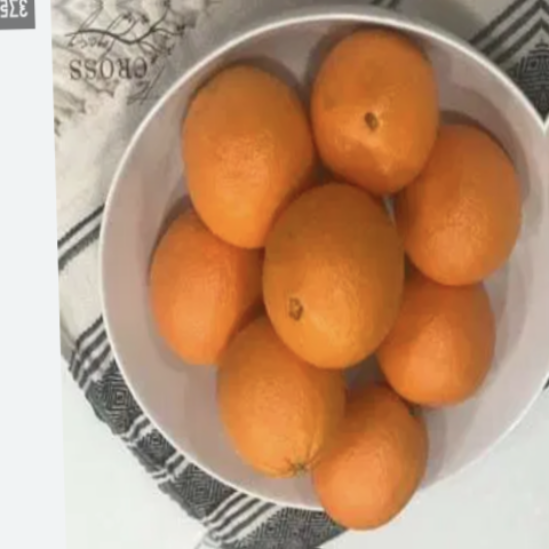orange: (254, 183, 412, 376), (122, 215, 292, 387), (179, 61, 325, 260), (308, 23, 450, 217), (389, 124, 546, 294), (301, 390, 436, 540)
